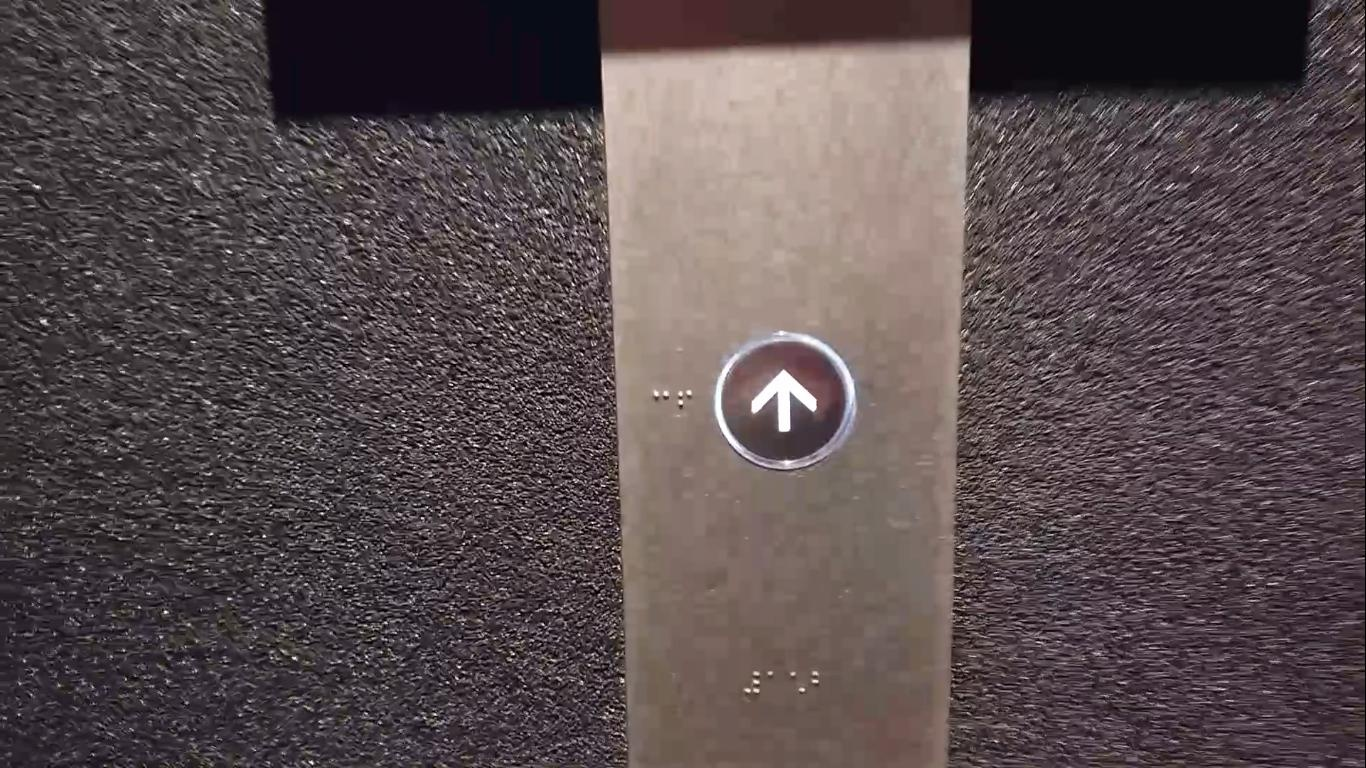up: (709, 327, 862, 475)
